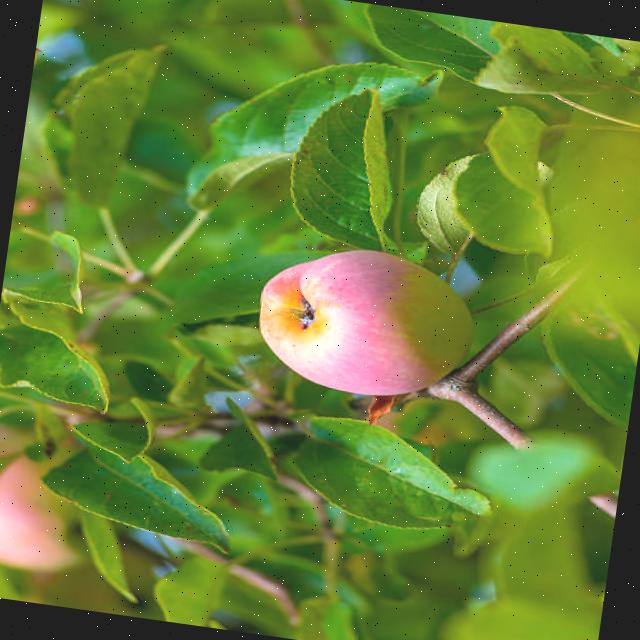Unripe: (246, 236, 484, 411)
